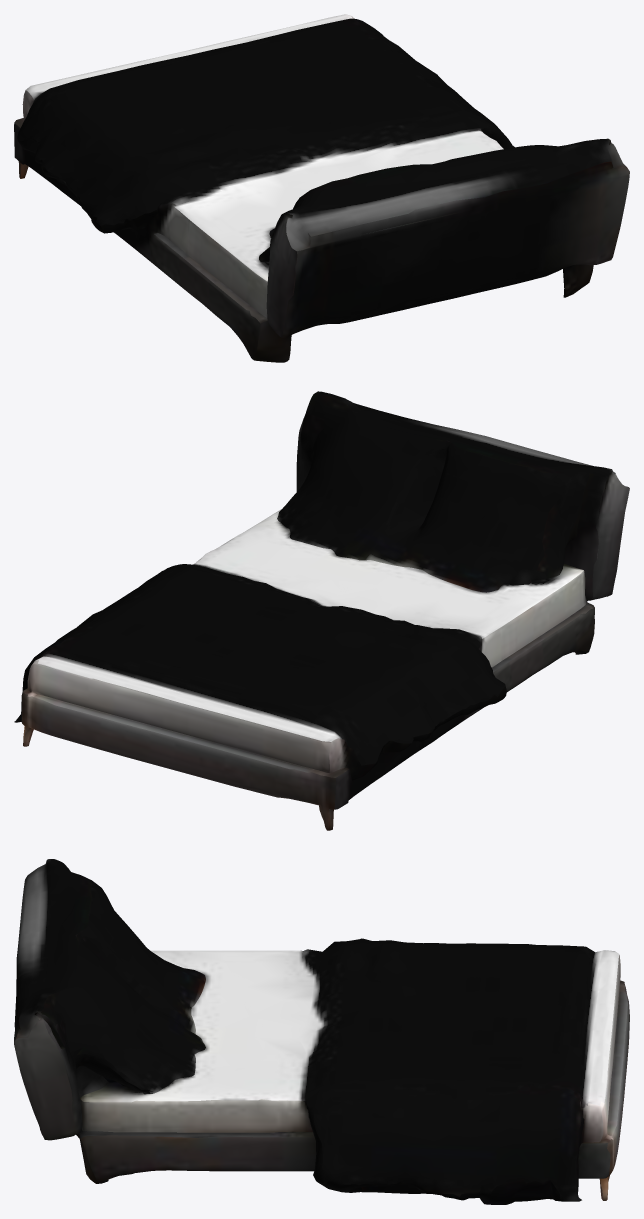
3 views of the same model, one above another, from view 1: azimuth 30°, elevation 25°; view 2: azimuth 150°, elevation 25°; view 3: azimuth 270°, elevation 25° (orthographic). The views are drawn at different scales.
Visible parts, largest first — view 1: world; view 2: world; view 3: world.
Boxes of the visible parts, left/top/right/bottom form: world: left=14, top=14, right=629, bottom=362; world: left=14, top=391, right=629, bottom=830; world: left=14, top=859, right=629, bottom=1204.
Size of the model in its own units: 0.5666 by 0.2292 by 0.7142.
1 material, 1 textured.
